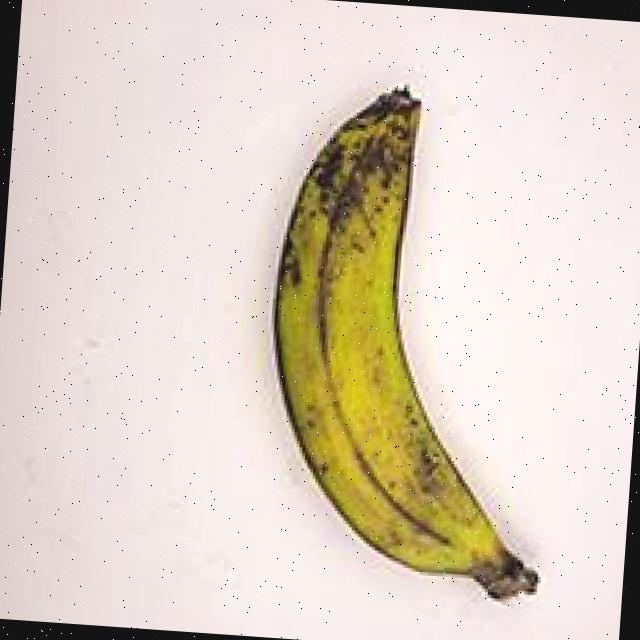Overripe: (190, 50, 592, 619)
